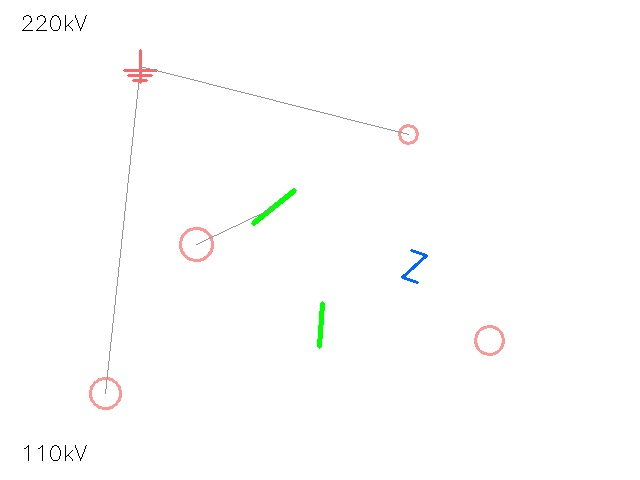busbar: (241, 174, 307, 240), (294, 298, 348, 352)
circuit_breaker: (398, 250, 430, 282)
disconnect_switch: (460, 311, 518, 369), (389, 115, 427, 153)
fuse: (163, 211, 229, 277)
ground: (124, 50, 156, 82)
load_break_switch: (74, 362, 136, 424)
